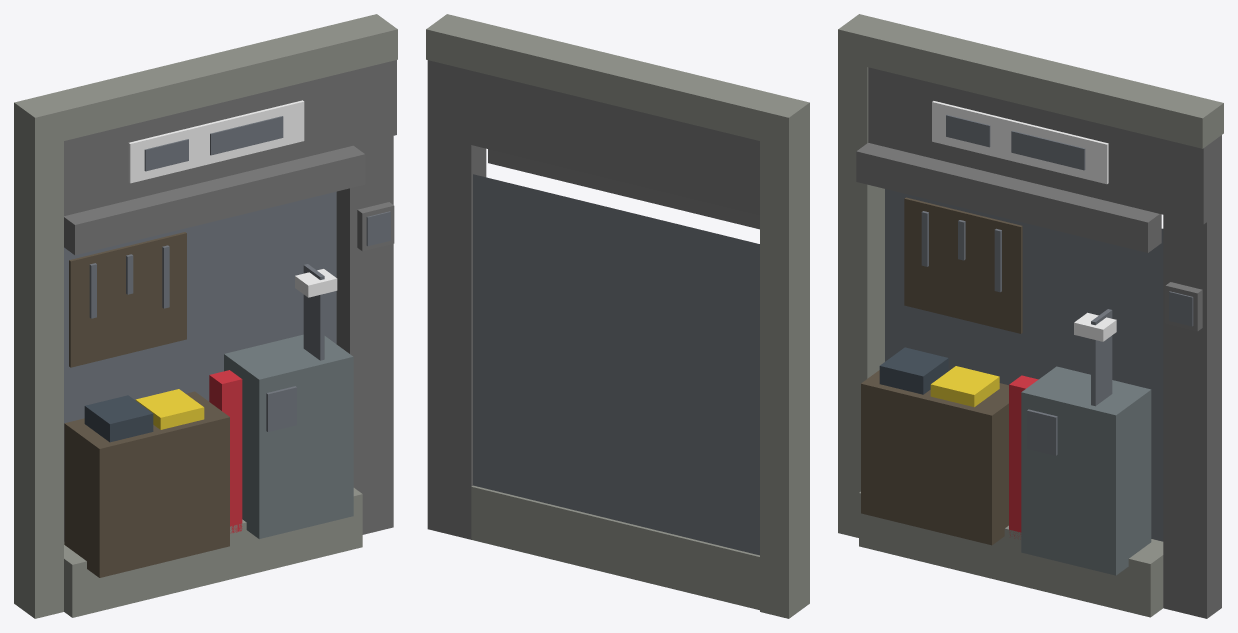
Rendered from base-w1_close.fbx.
3 renders of one model, left to right at view 1: azimuth 30°, elevation 25°; view 2: azimuth 150°, elevation 25°; view 3: azimuth 330°, elevation 25°, orthographic.
Visible parts, largest first — view 1: a2020/0/base-w1_close; view 2: a2020/0/base-w1_close; view 3: a2020/0/base-w1_close.
Part boxes in pixels (x1=…): a2020/0/base-w1_close: x1=14, y1=14, x2=397, y2=618; a2020/0/base-w1_close: x1=426, y1=14, x2=809, y2=618; a2020/0/base-w1_close: x1=838, y1=14, x2=1223, y2=618.
Size of the model in its own units: 2.5 by 3.3 by 0.52.
